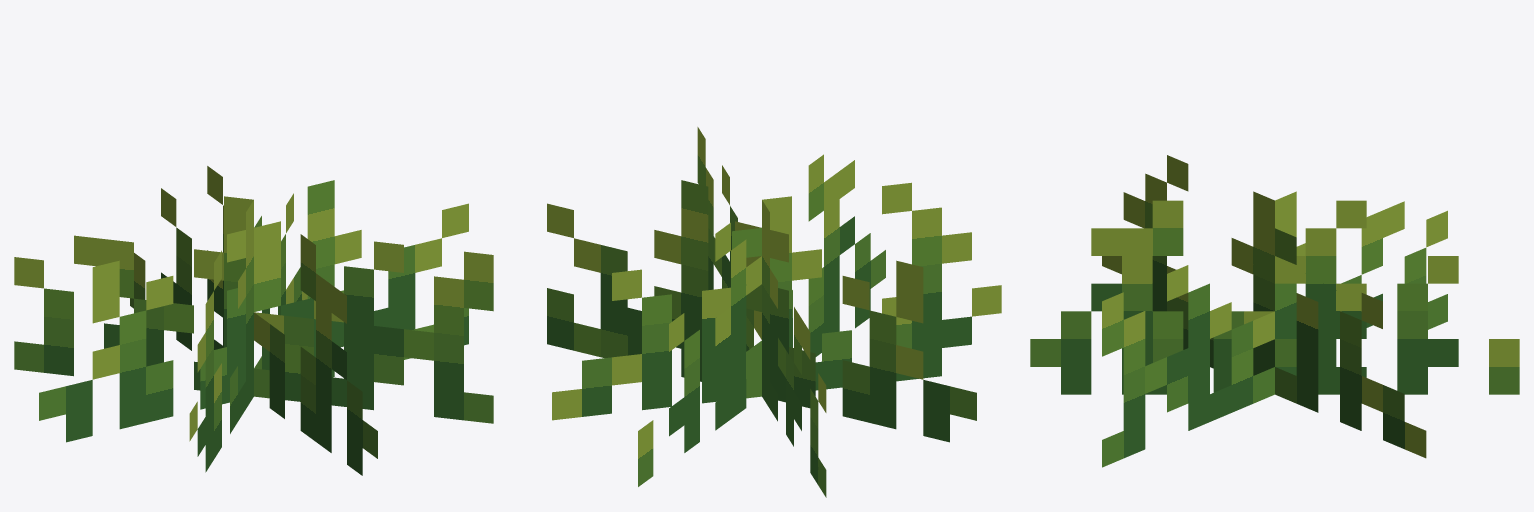
File: Weed.fbx
3 views of the same model, side by side, from view 1: azimuth 30°, elevation 25°; view 2: azimuth 150°, elevation 25°; view 3: azimuth 270°, elevation 25° (orthographic).
Parts seen in each view (by area): view 1: plane; view 2: plane; view 3: plane.
Part boxes in pixels (x1,y1,x2,y2): plane: (14, 166, 493, 475); plane: (547, 127, 1001, 497); plane: (1030, 155, 1519, 467).
Size of the model in its own units: 100 by 62.5 by 100.
1 material, 1 textured.
